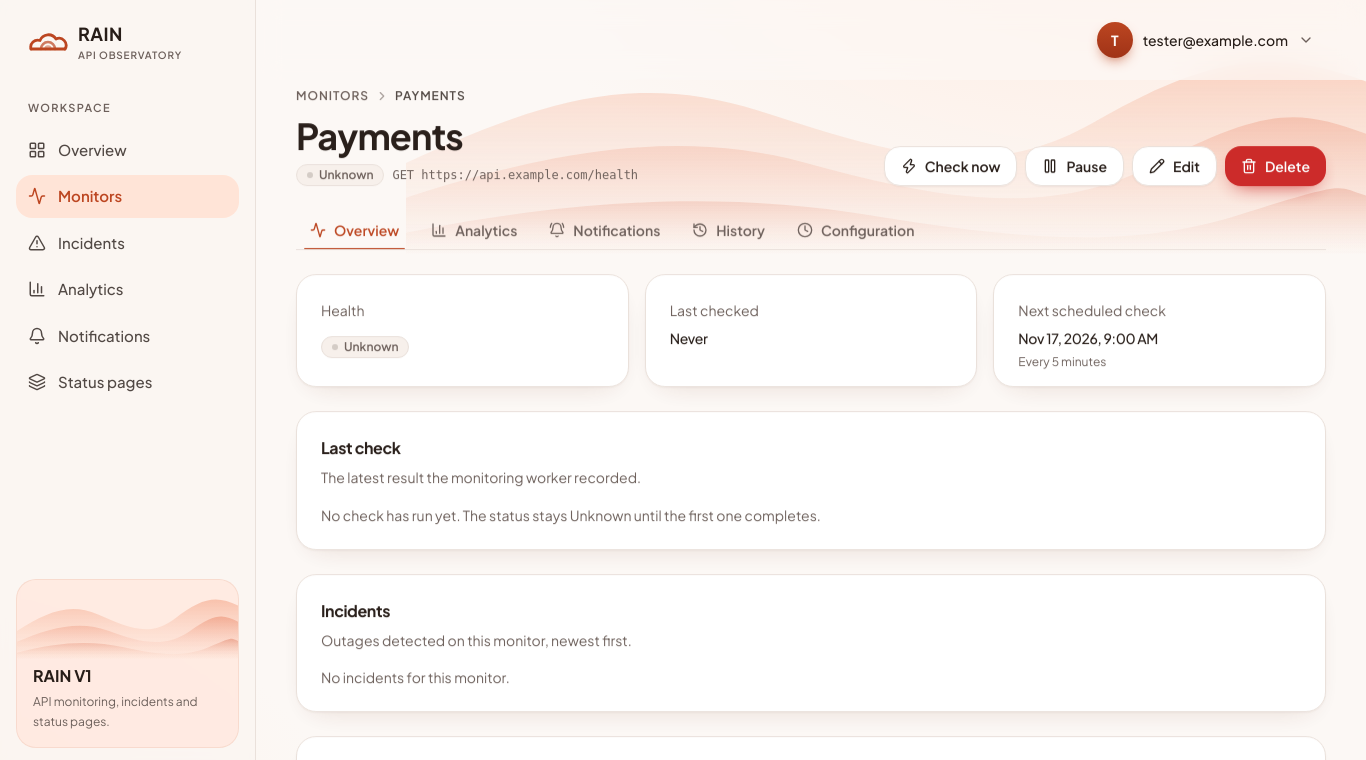
Test: monitor notification settings › warns when the server has no email provider, and disables email without an address
Click the tab "Notifications" at (605,230), box [535,210,674,250]
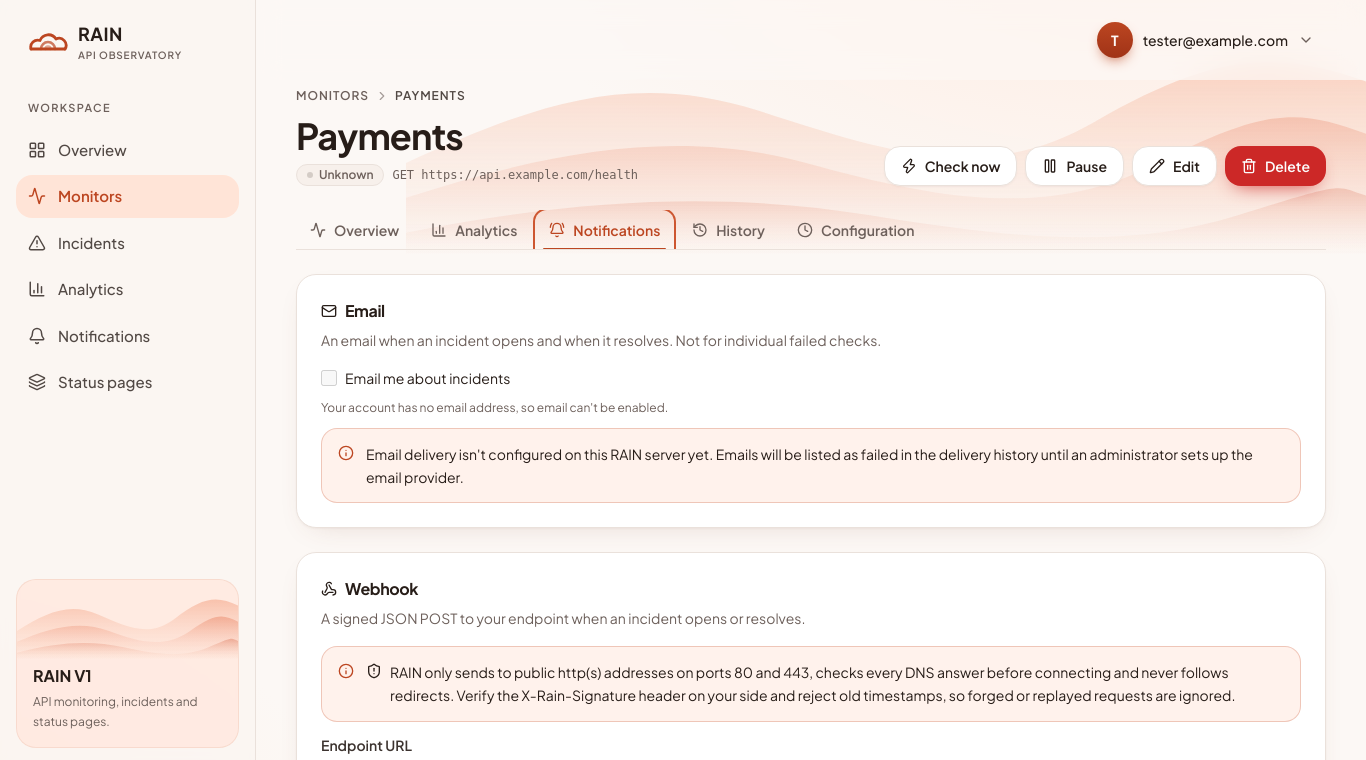
Expected: the text "Email delivery isn't configured on this RAIN server" is shown, [366,445,1253,486]
Expected: the checkbox labelled "Email me about incidents" is disabled, [321,370,337,386]
